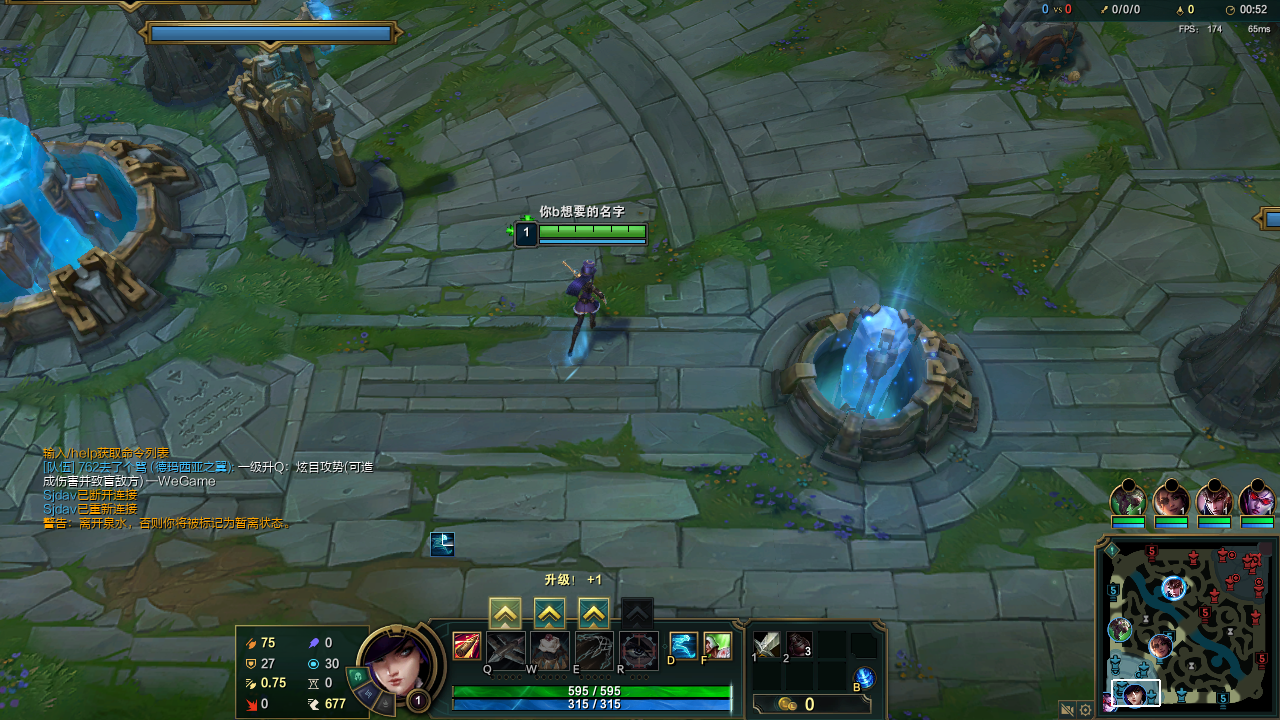Shenji: (582, 605, 607, 632), (540, 604, 565, 627)
Tuijianshengji: (493, 602, 523, 629)
WFSJ: (12, 143, 113, 316)
Yita: (1217, 687, 1230, 706)
